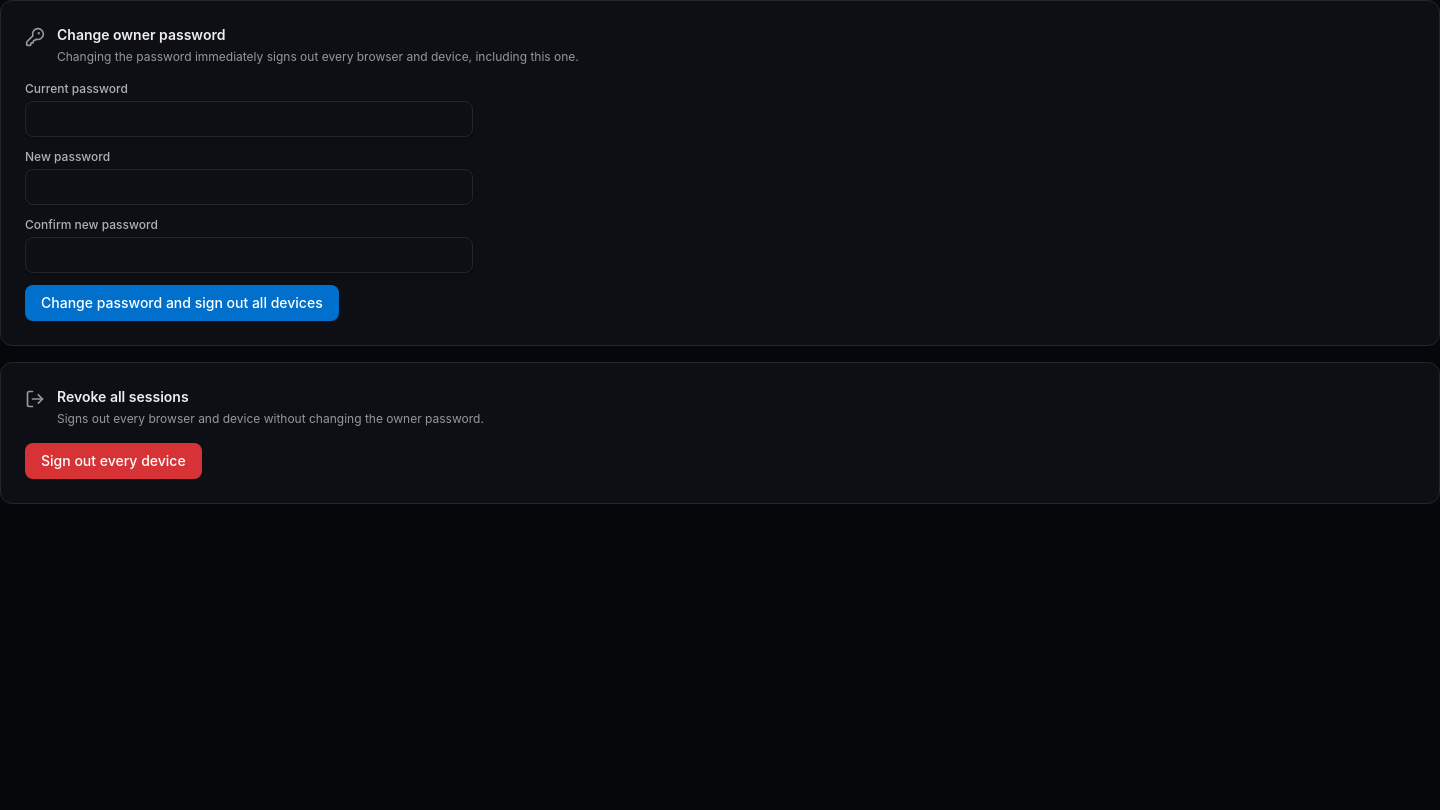
Test: SecuritySettings › keeps the revoke dialog open when session revocation fails
This screenshot has width=1440, height=810.
Click the button "Sign out every device" at (113, 461), box [25,443,202,479]
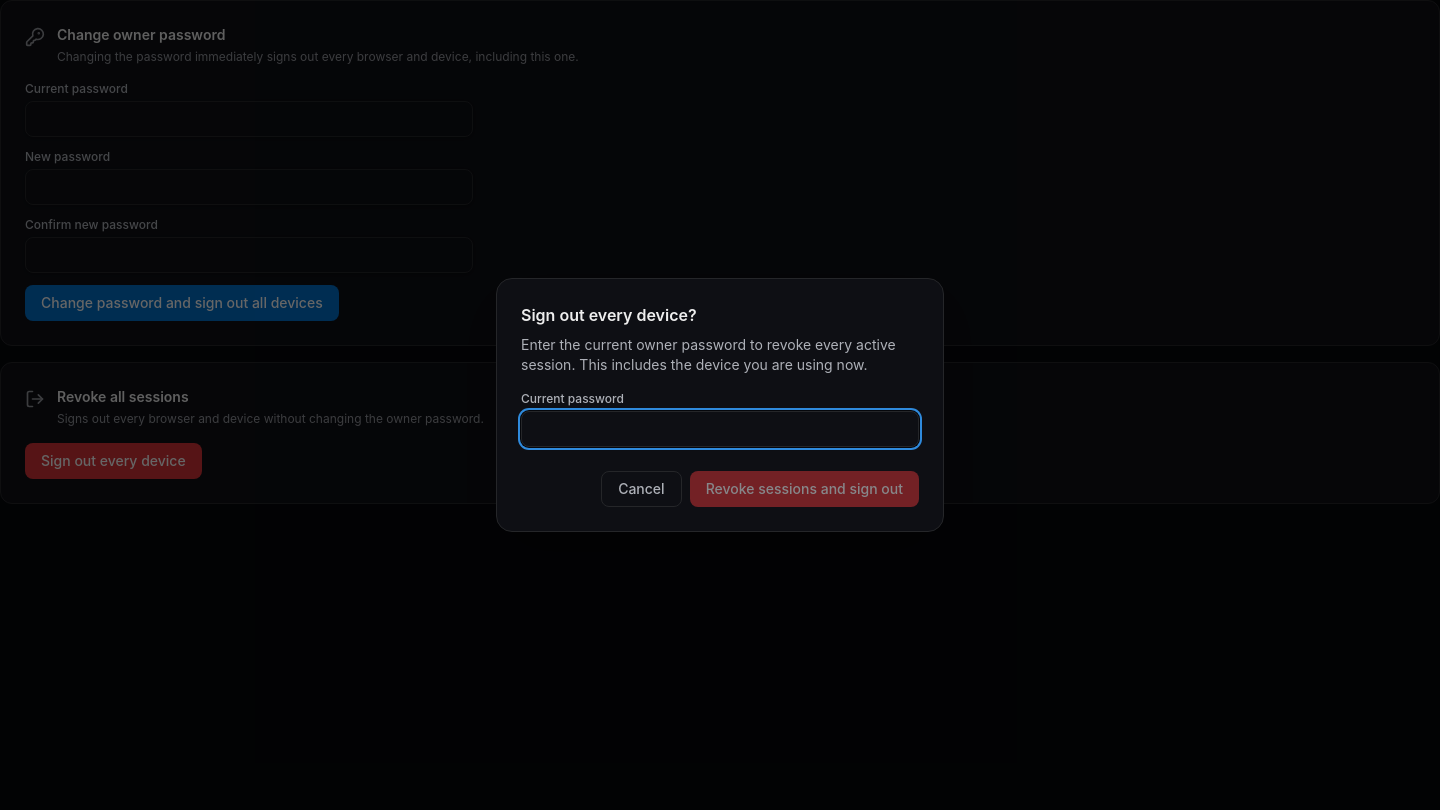
Type "current-owner-password" into the password field labelled "Current password" at (720, 429), box [521,411,919,447]
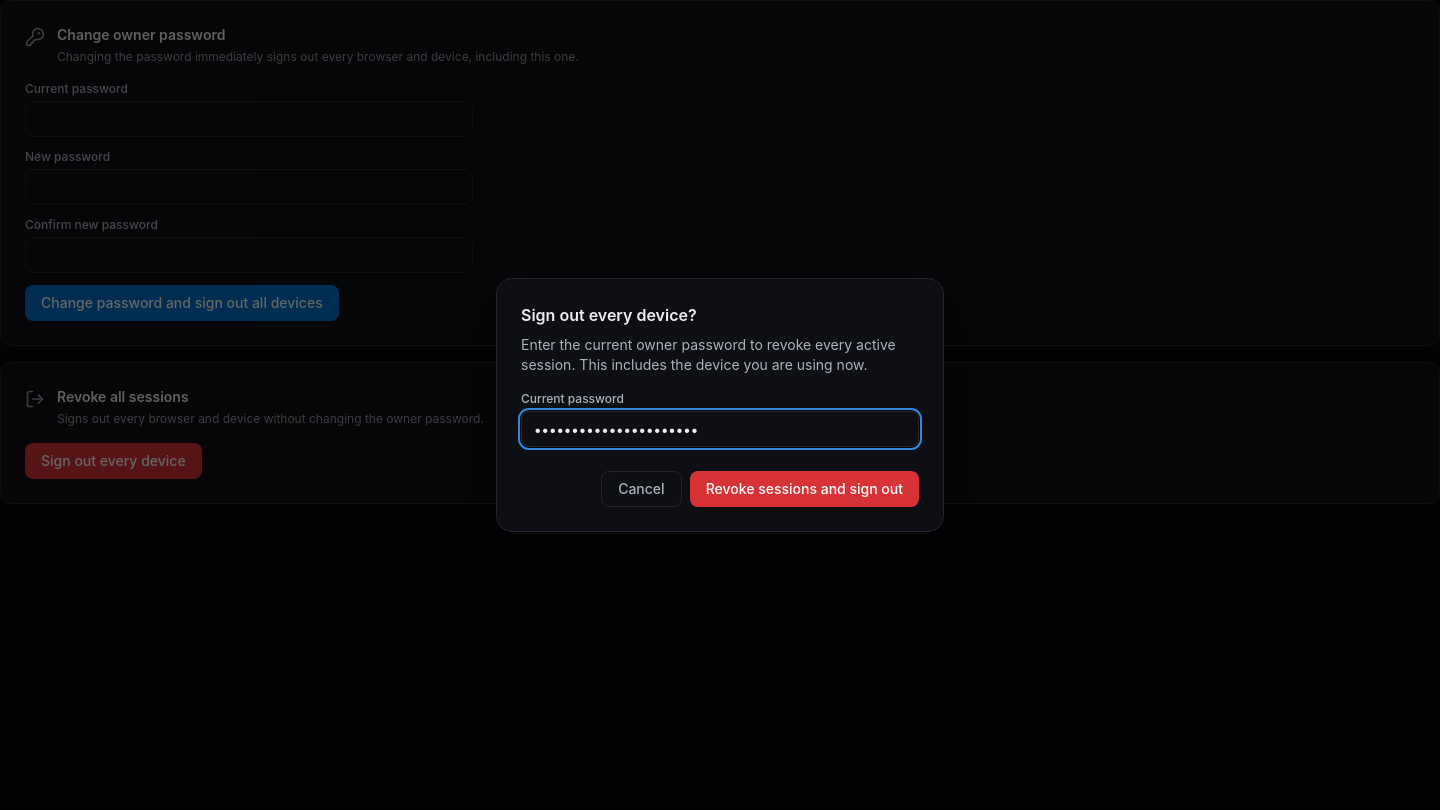
Click the button "Revoke sessions and sign out" at (804, 489), box [690,471,919,507]
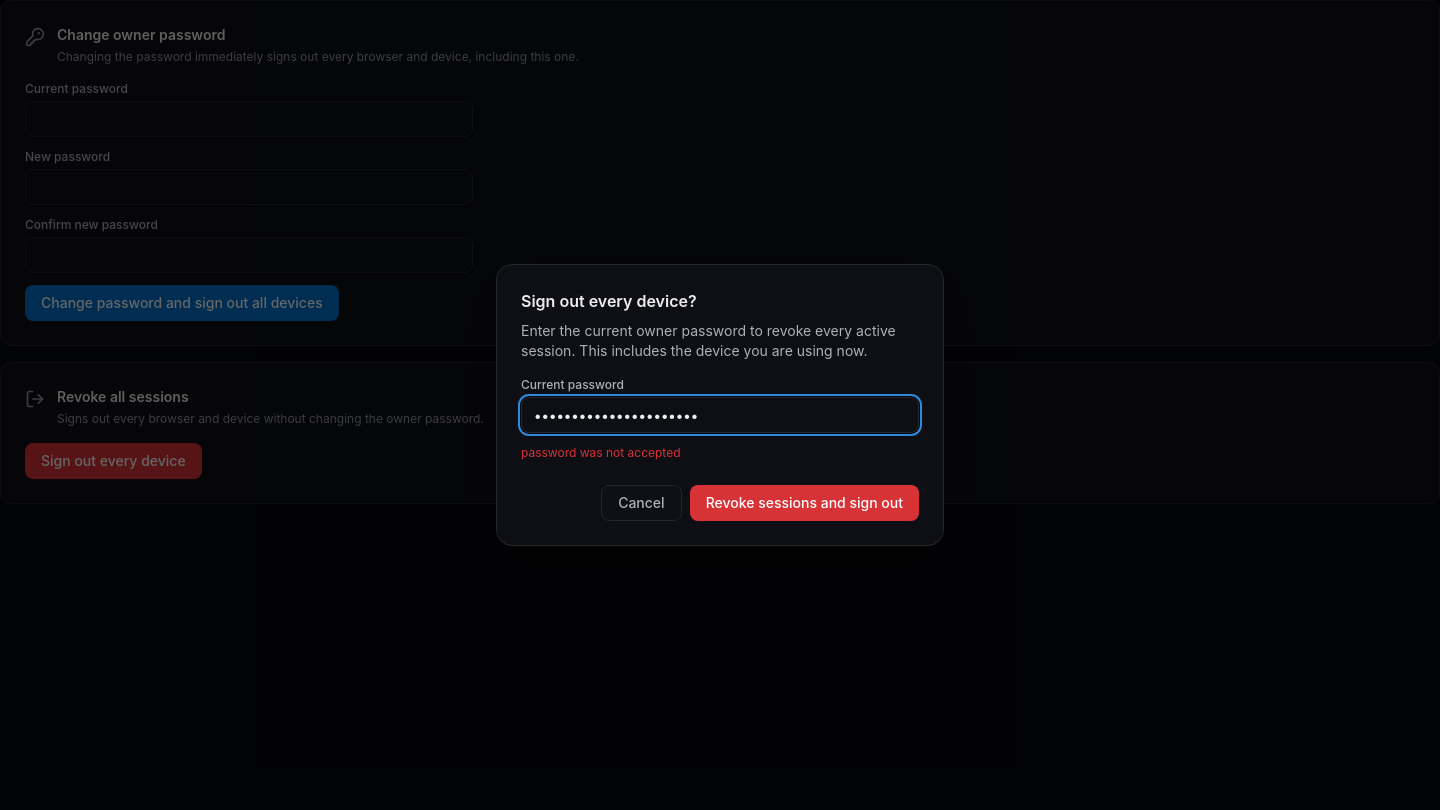
Result: the dialog is shown at [496,264,944,546]
Result: the message reads "password was not accepted" at [521,445,680,460]
Click the button "Cancel" at (641, 503), box [601,485,682,521]
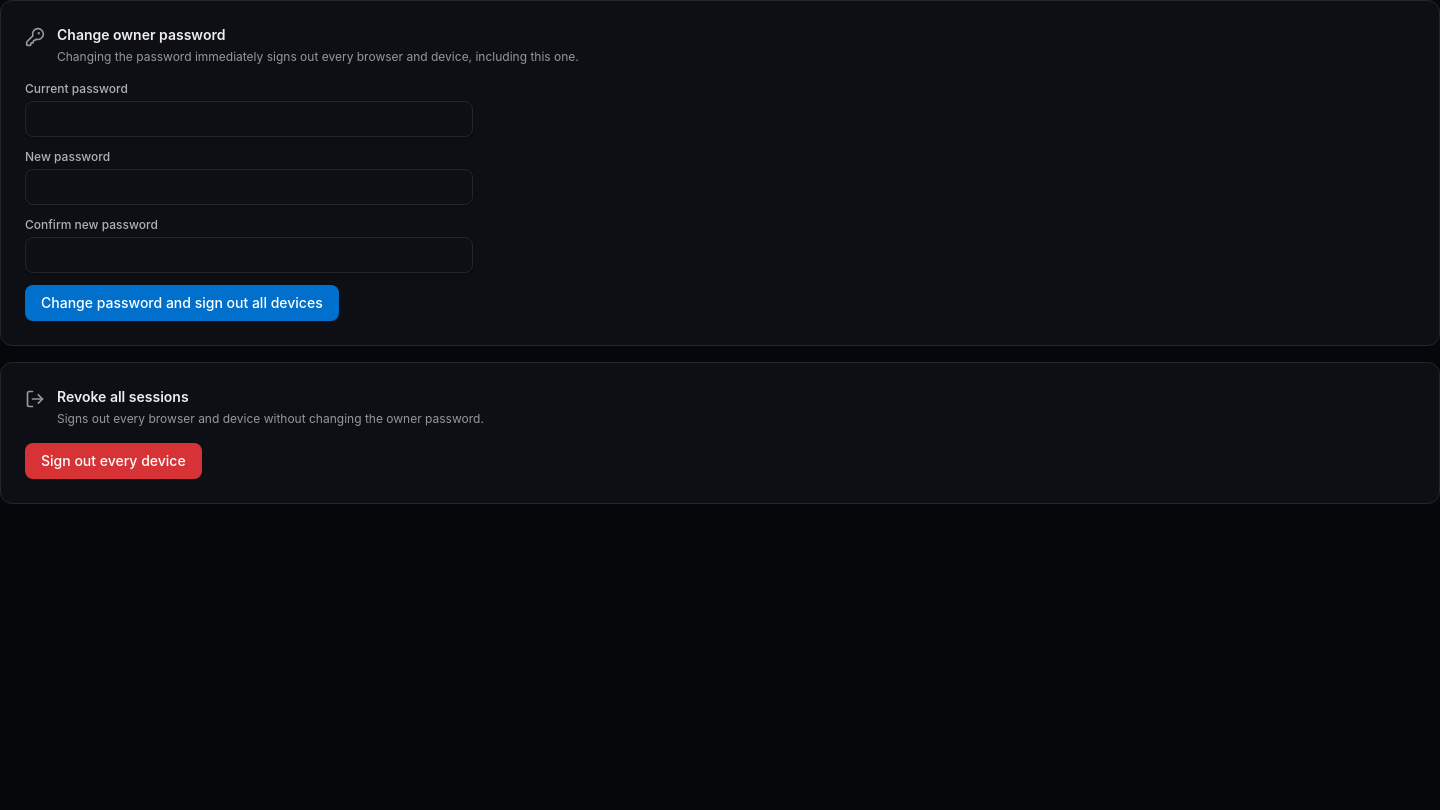
Result: the dialog is gone
